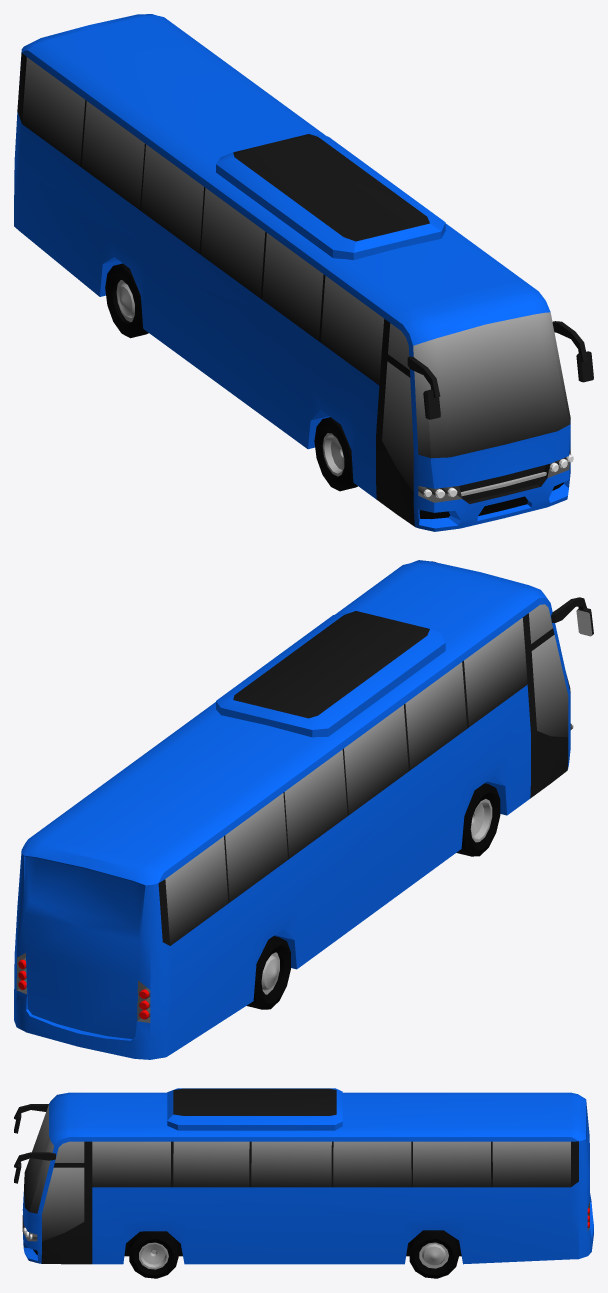
File: bus.fbx
3 renders of one model, top to bottom at view 1: azimuth 30°, elevation 25°; view 2: azimuth 150°, elevation 25°; view 3: azimuth 270°, elevation 25°, orthographic. The views are drawn at different scales.
Visible parts, largest first — view 1: Plane, Cylinder.002, Cylinder.003; view 2: Plane, Cylinder.002, Cylinder.003; view 3: Plane, Cylinder.001, Cylinder.
Part boxes in pixels (left/top/right/bottom): Plane: left=14, top=14, right=593, bottom=531; Cylinder.002: left=314, top=417, right=357, bottom=491; Cylinder.003: left=105, top=263, right=148, bottom=338; Plane: left=14, top=560, right=593, bottom=1059; Cylinder.002: left=456, top=783, right=500, bottom=856; Cylinder.003: left=246, top=936, right=290, bottom=1009; Plane: left=14, top=1088, right=593, bottom=1264; Cylinder.001: left=409, top=1230, right=458, bottom=1278; Cylinder: left=129, top=1231, right=178, bottom=1278.
Size of the model in its own units: 98.8 by 129 by 445.
1 material, 1 textured.
